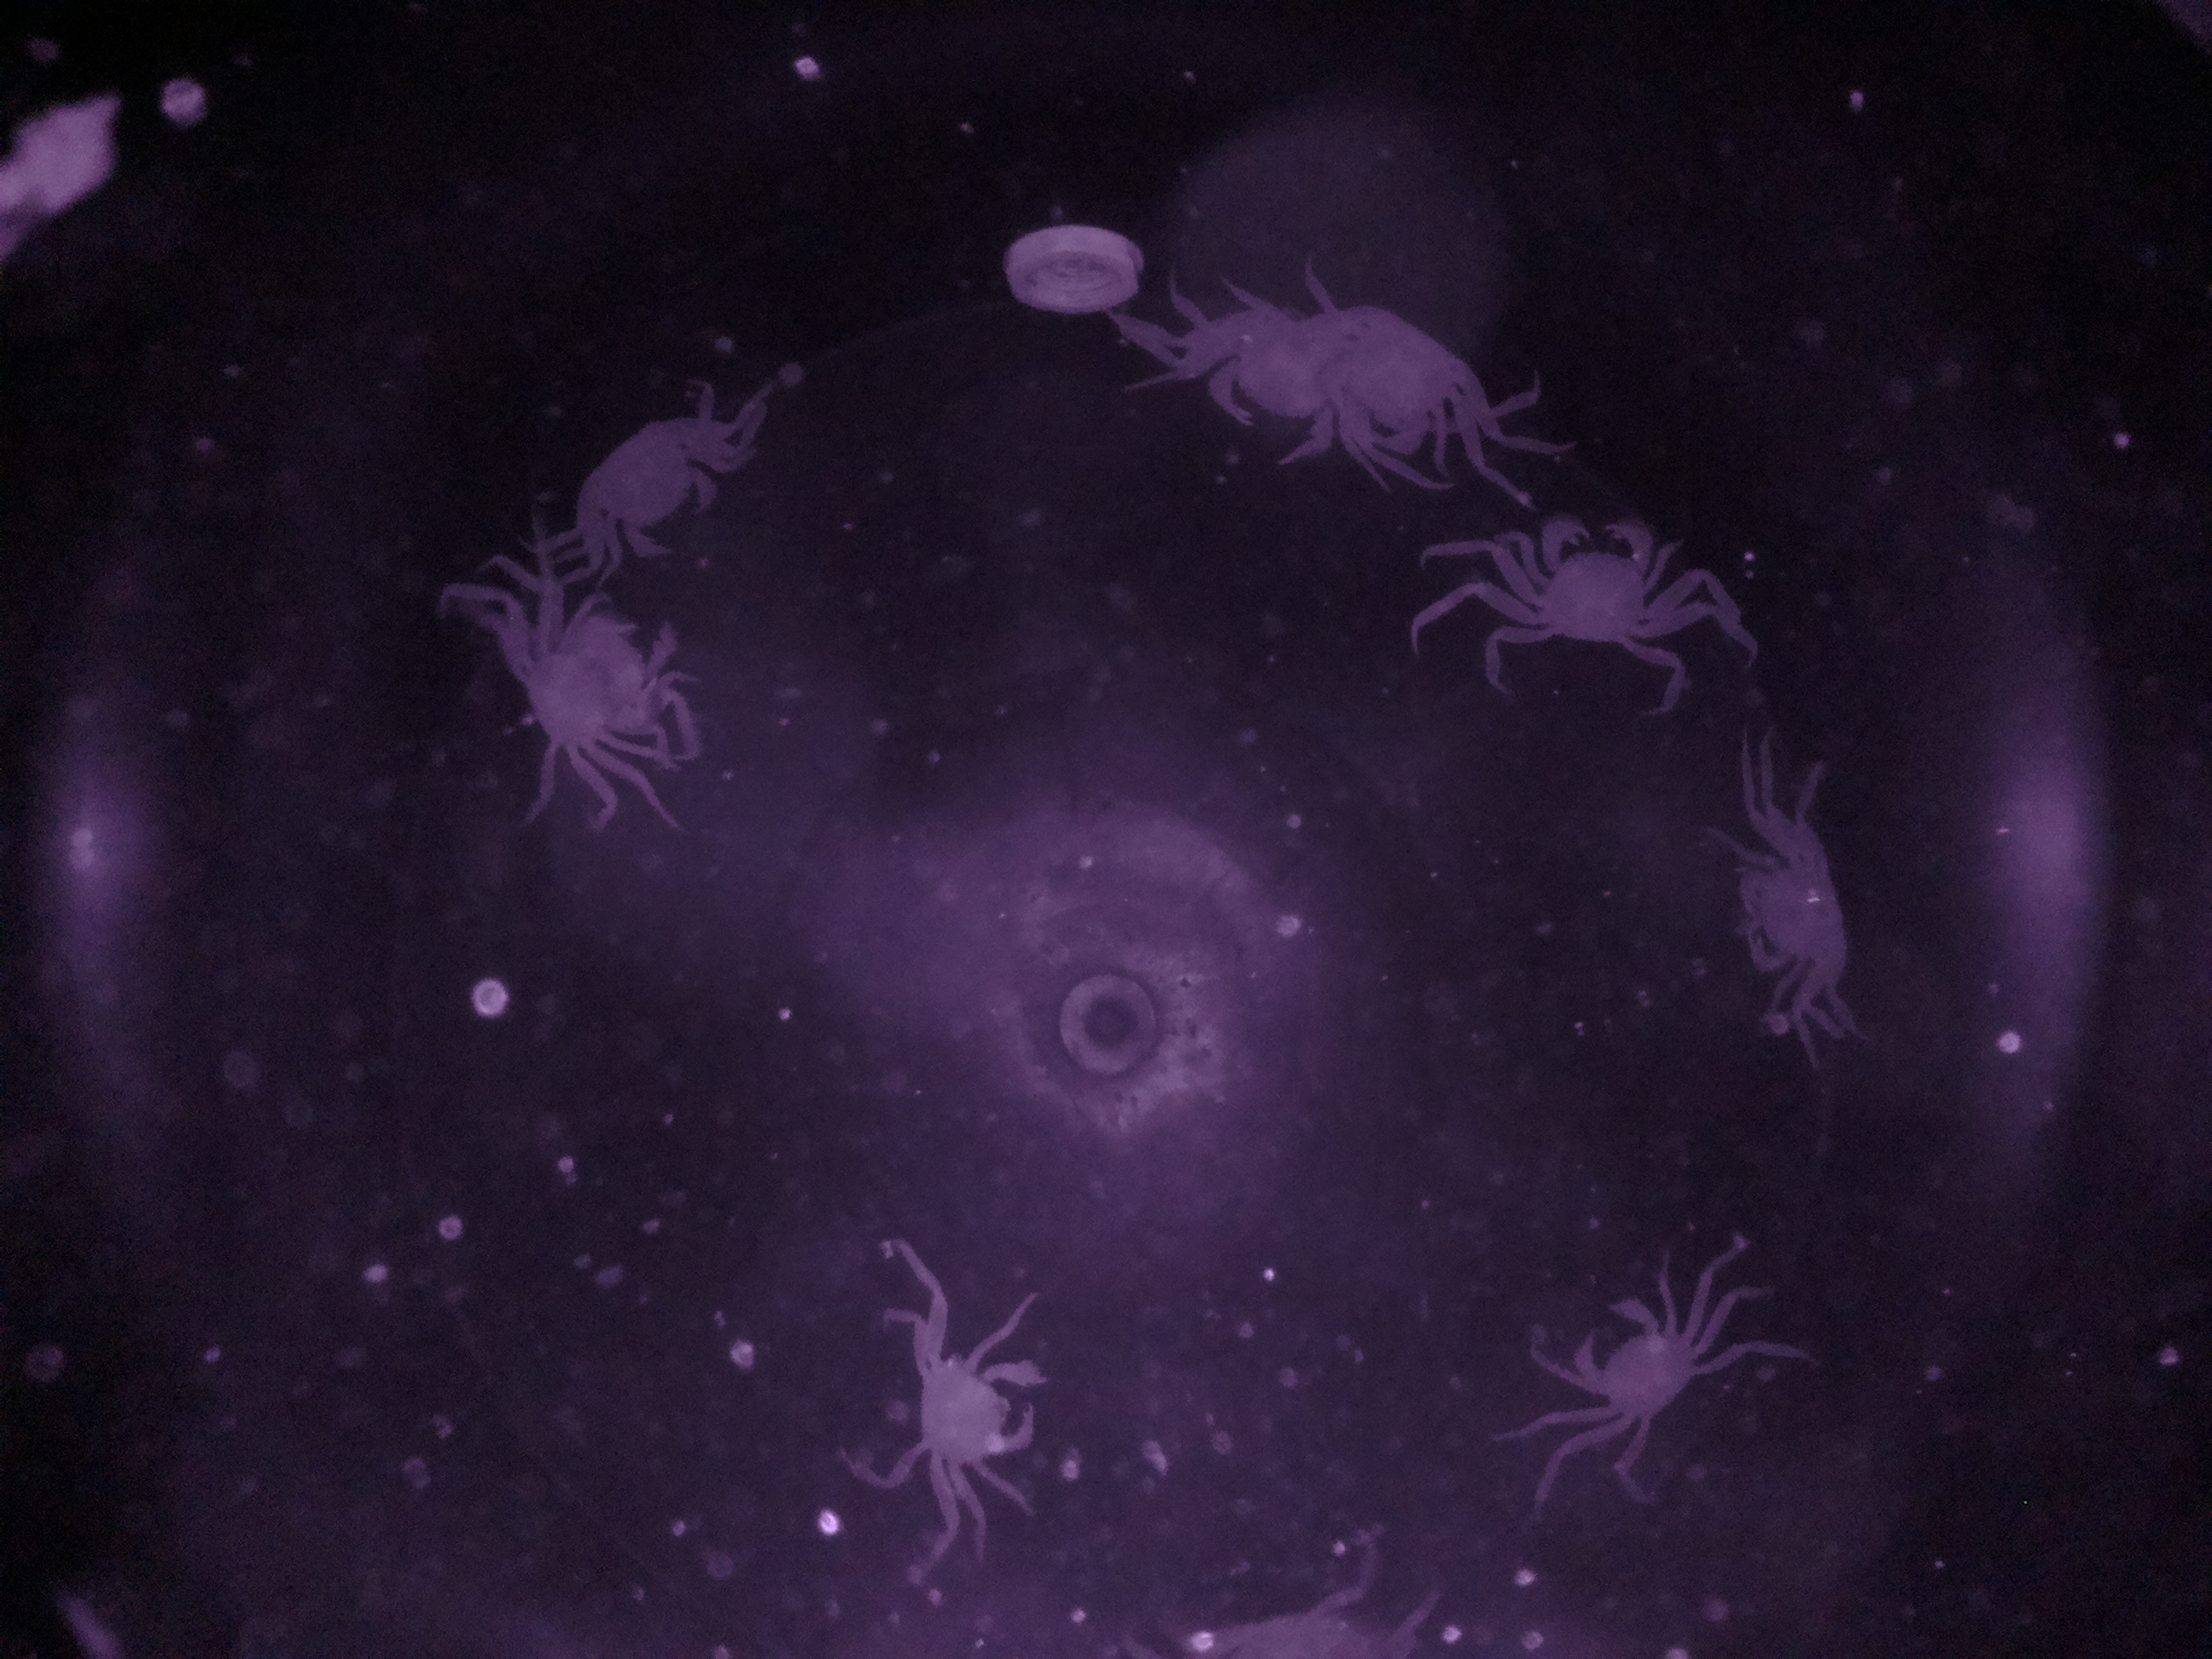Crab: (1480, 500, 1696, 666), (881, 1317, 1068, 1509), (1538, 1281, 1733, 1455), (570, 390, 737, 584)
